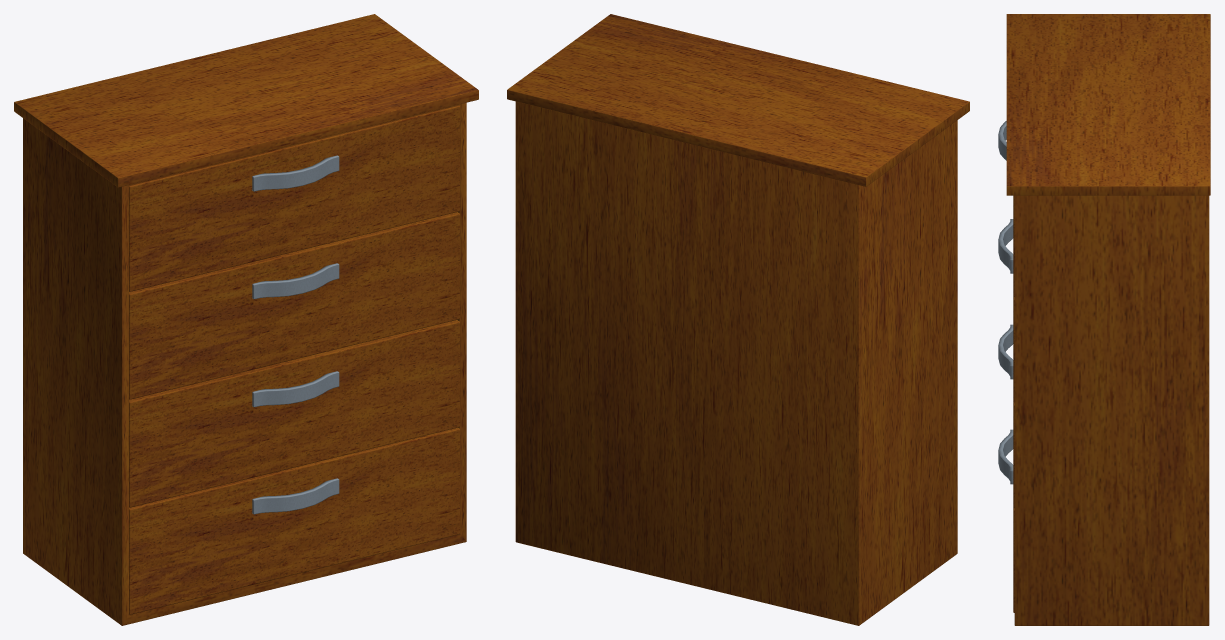
The model's file is Drawers 002.fbx.
3 views of the same model, side by side, from view 1: azimuth 30°, elevation 25°; view 2: azimuth 150°, elevation 25°; view 3: azimuth 270°, elevation 25° (orthographic). The views are drawn at different scales.
Parts seen in each view (by area): view 1: Cube, Cube.001, Cube.002, Cube.003, Cube.004; view 2: Cube; view 3: Cube, Cube.001, Cube.003, Cube.002, Cube.004.
Boxes of the visible parts, left/top/right/bottom form: Cube: left=14, top=14, right=478, bottom=625; Cube.001: left=129, top=320, right=460, bottom=507; Cube.002: left=129, top=212, right=460, bottom=399; Cube.003: left=129, top=427, right=460, bottom=614; Cube.004: left=129, top=105, right=460, bottom=291; Cube: left=507, top=14, right=969, bottom=625; Cube: left=1006, top=14, right=1210, bottom=625; Cube.001: left=998, top=324, right=1014, bottom=507; Cube.003: left=998, top=429, right=1014, bottom=612; Cube.002: left=998, top=219, right=1014, bottom=402; Cube.004: left=998, top=121, right=1014, bottom=296.
Bounding box in the file's own units: 100 × 120 × 51.97.
